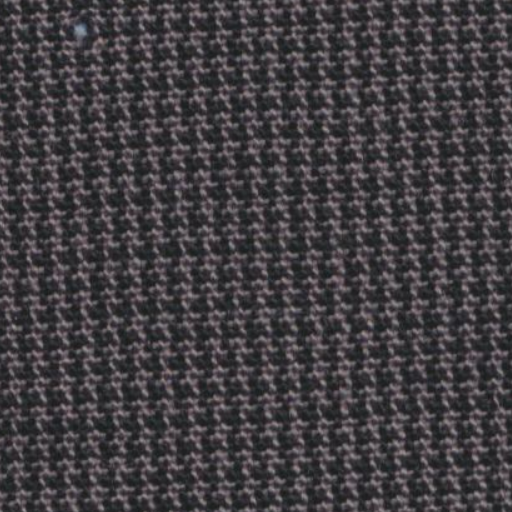PoDong: (56, 6, 112, 58)
